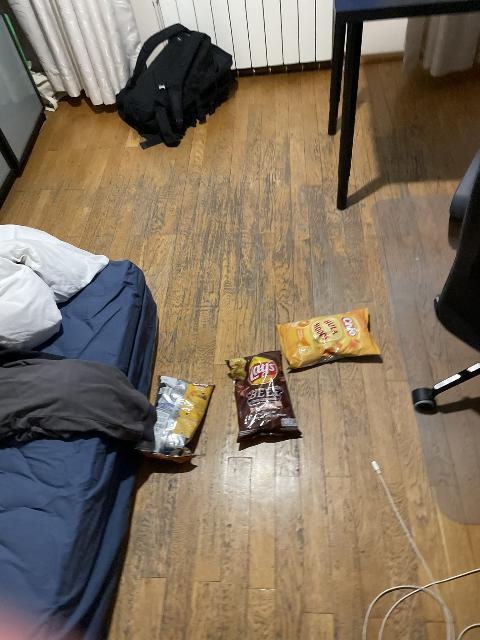Chio Cascaval 125g: (141, 374, 216, 461)
Chio Hula Hoops Cheese 70g: (279, 309, 373, 365)
Lays Beef Grilled Ribs 125g: (229, 350, 305, 442)
